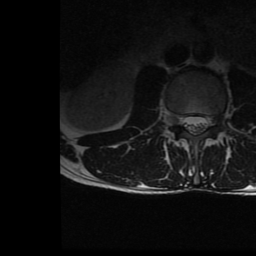CCS_normal: (191, 108, 199, 140)
LFS_normal: (208, 110, 217, 130)
LLS_normal: (199, 108, 208, 135)
RFS_normal: (174, 110, 183, 131)
RLS_normal: (183, 109, 191, 134)
